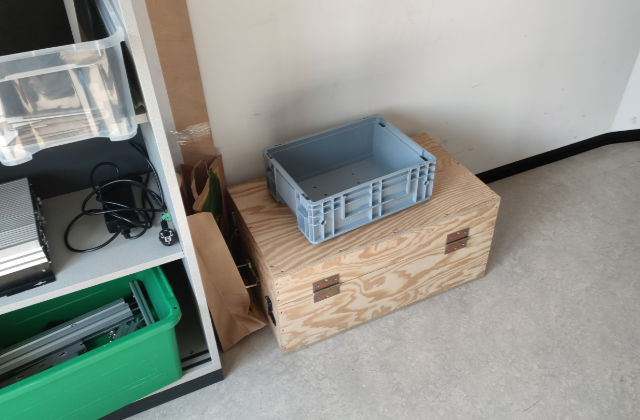Box: (260, 111, 436, 245)
